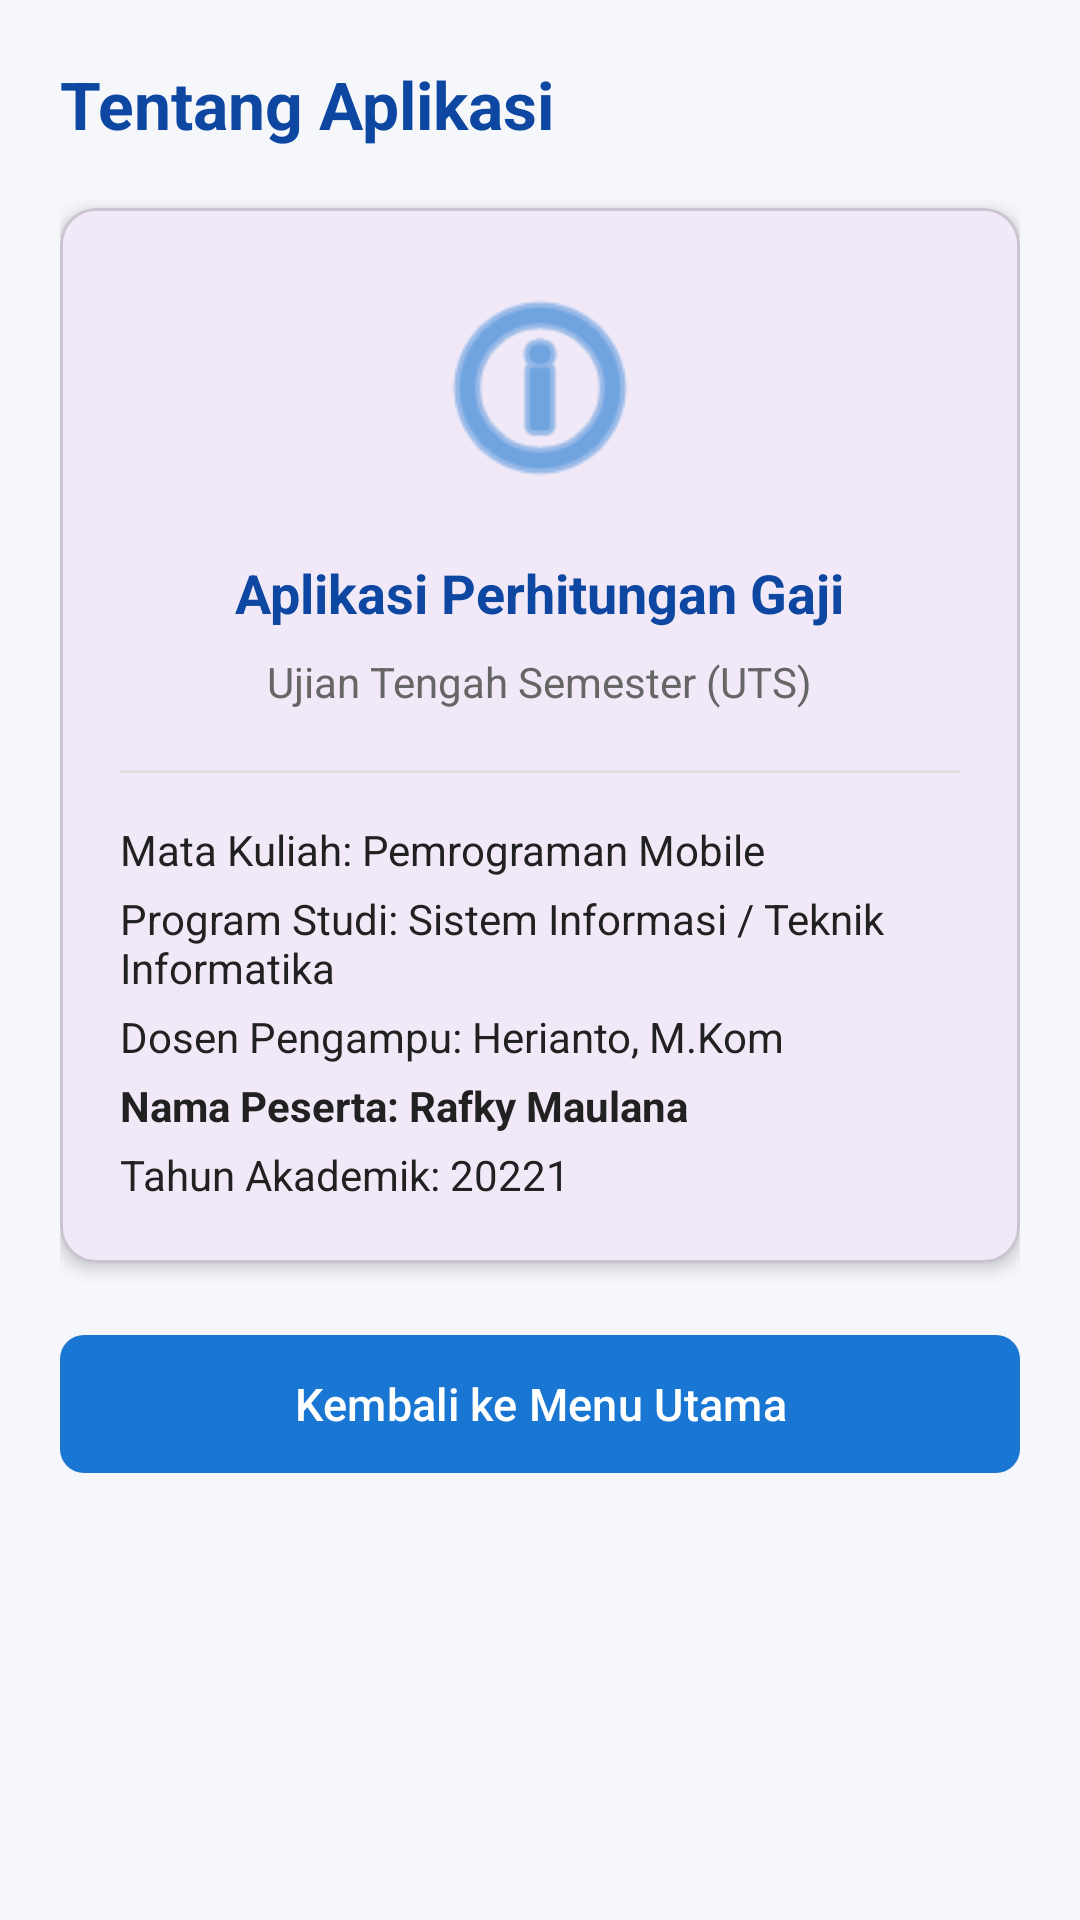

Screen size 1080*1920. Icon name, then its center in pixels as (x=x, y=y):
info details: (x=540, y=388)
